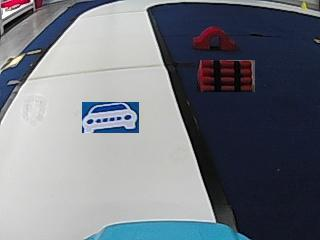bridge: (194, 24, 233, 50)
